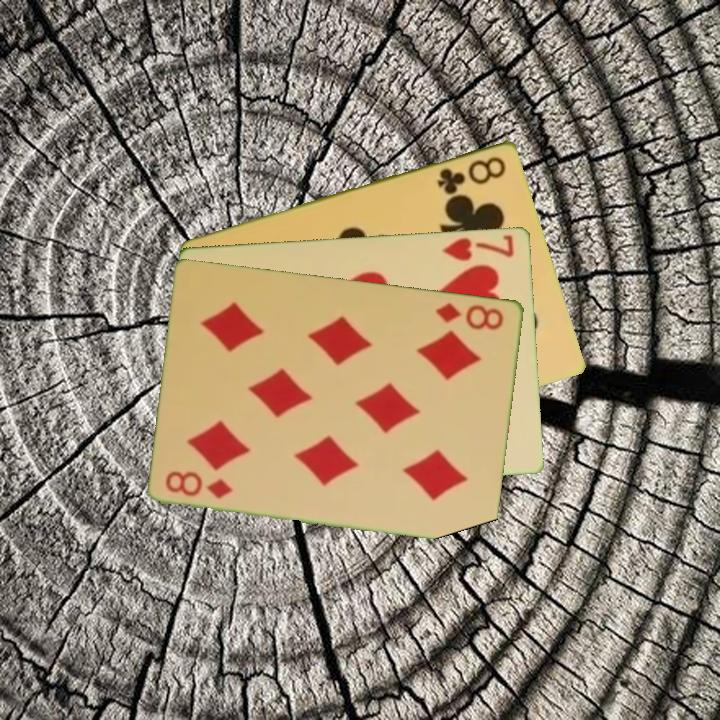7h: (439, 231, 518, 264)
8c: (433, 152, 509, 196)
8d: (432, 298, 507, 333), (162, 467, 236, 501)
